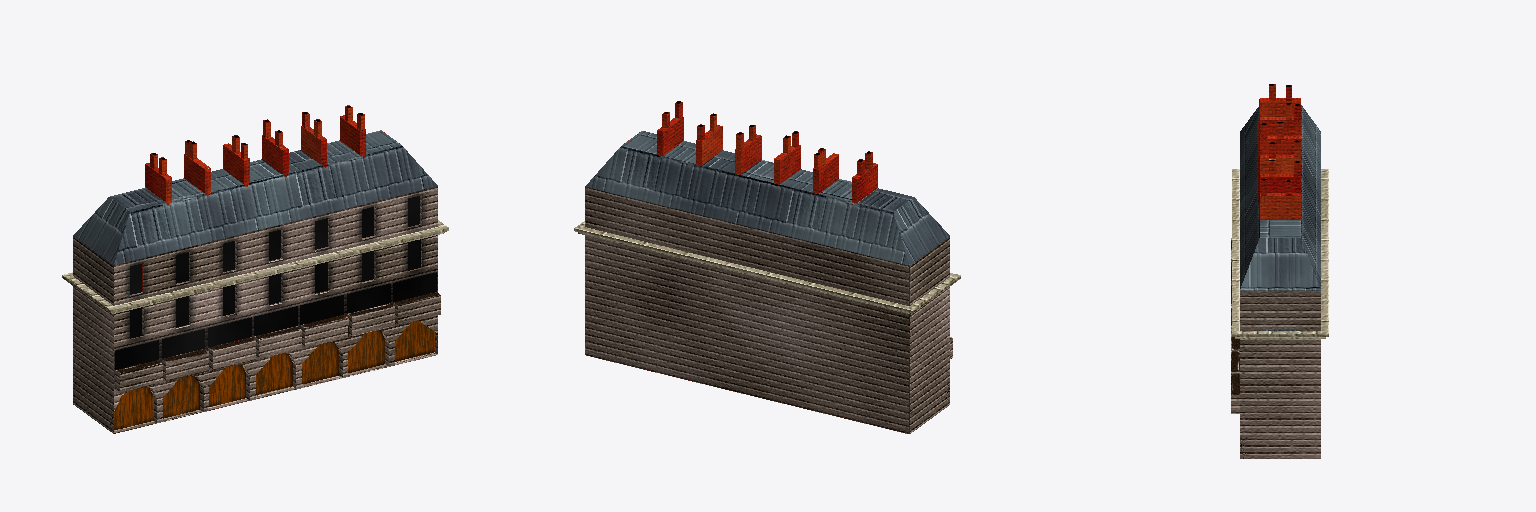
3 renders of one model, left to right at view 1: azimuth 30°, elevation 25°; view 2: azimuth 150°, elevation 25°; view 3: azimuth 270°, elevation 25°, orthographic.
Visible parts, largest first — view 1: Cube1; view 2: Cube1; view 3: Cube1.
Part boxes in pixels (x1,y1,x2,y2): Cube1: (62, 105, 448, 433); Cube1: (574, 101, 960, 433); Cube1: (1231, 84, 1328, 458).
Bounding box in the file's own units: 18.96 × 13.27 × 4.77.
Materials: 1 (1 with a texture image).